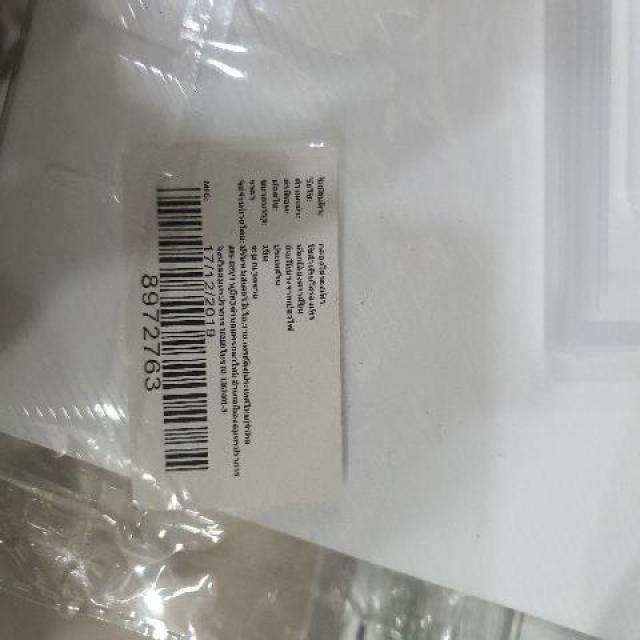Barcode: (138, 170, 215, 486)
